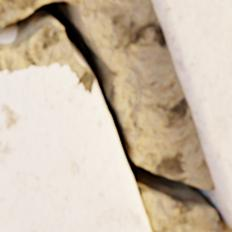brick: (0, 63, 150, 231), (151, 0, 231, 227)
crack: (0, 1, 231, 230)
